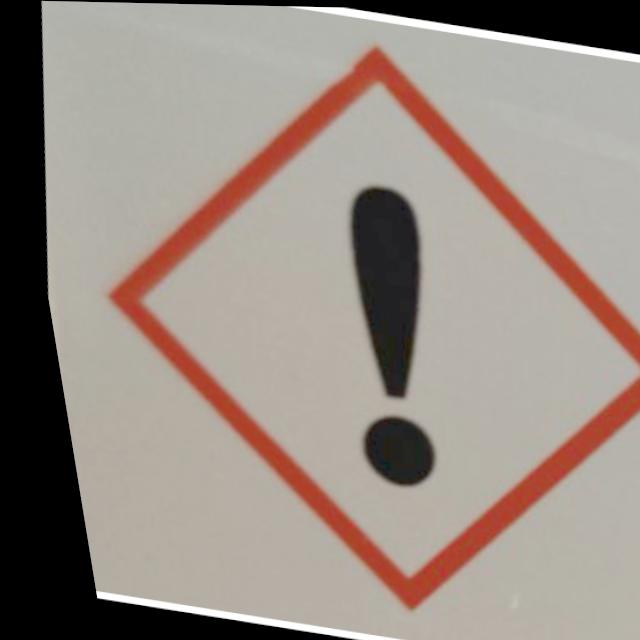health-ozone layer hazard: (20, 0, 640, 640)
